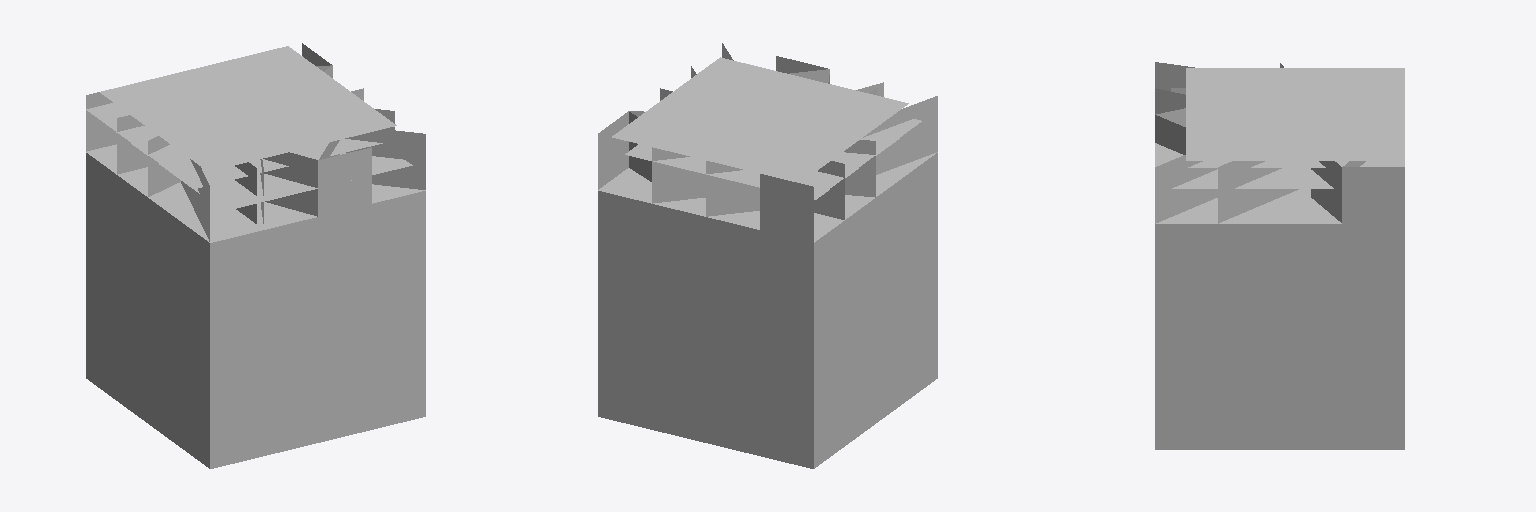
The model's file is blush.obj.
3 renders of one model, left to right at view 1: azimuth 30°, elevation 25°; view 2: azimuth 150°, elevation 25°; view 3: azimuth 270°, elevation 25°, orthographic.
Bounding box in the file's own units: 1 × 1.25 × 1.